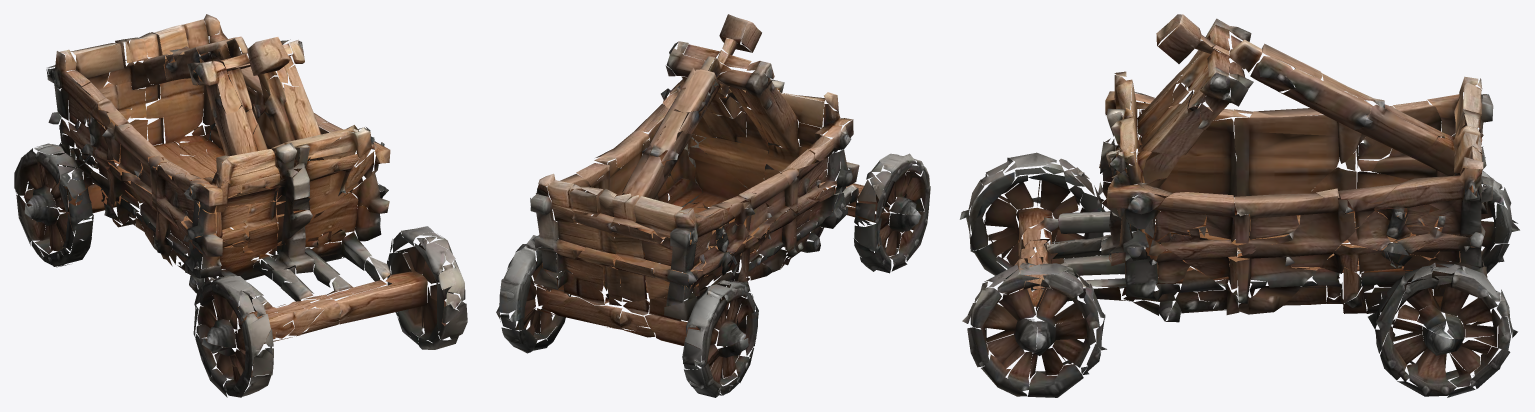
File: siege_wagon.glb
3 renders of one model, left to right at view 1: azimuth 30°, elevation 25°; view 2: azimuth 150°, elevation 25°; view 3: azimuth 270°, elevation 25°, orthographic. The views are drawn at different scales.
Visible parts, largest first — view 1: tripo_node_0ad87ac7-a764-445b-bede-587b588a8df4; view 2: tripo_node_0ad87ac7-a764-445b-bede-587b588a8df4; view 3: tripo_node_0ad87ac7-a764-445b-bede-587b588a8df4.
Part boxes in pixels (x1,y1,x2,y2): tripo_node_0ad87ac7-a764-445b-bede-587b588a8df4: [14, 14, 467, 397]; tripo_node_0ad87ac7-a764-445b-bede-587b588a8df4: [496, 14, 930, 397]; tripo_node_0ad87ac7-a764-445b-bede-587b588a8df4: [959, 14, 1519, 397].
Bounding box in the file's own units: 0.5929 × 0.6323 × 0.9976.
Materials: 1 (1 with a texture image).
